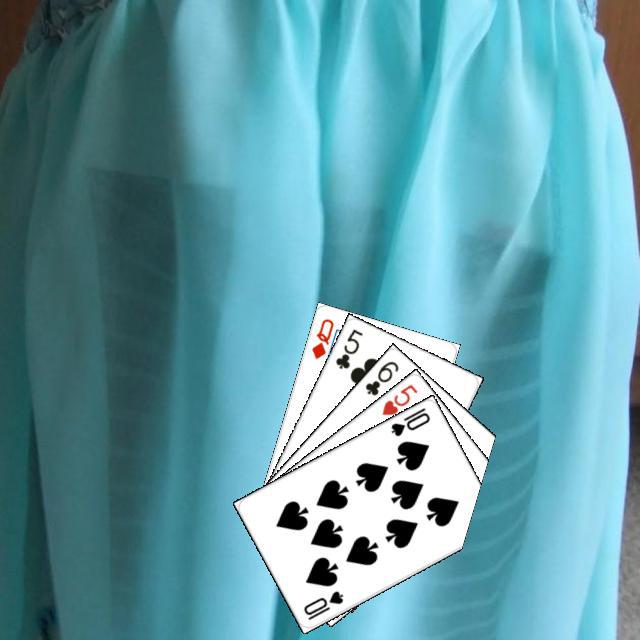10s: (386, 402, 432, 438), (299, 585, 345, 621)
5c: (330, 324, 364, 371)
5h: (377, 379, 419, 417)
6c: (360, 356, 400, 397)
Qd: (307, 314, 335, 361)
